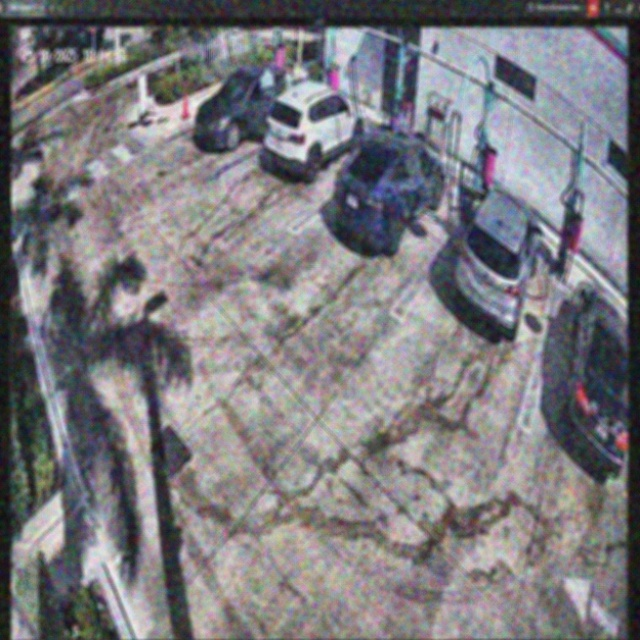Car: (453, 158, 534, 336), (335, 122, 445, 252), (261, 76, 365, 182), (196, 65, 294, 154)
